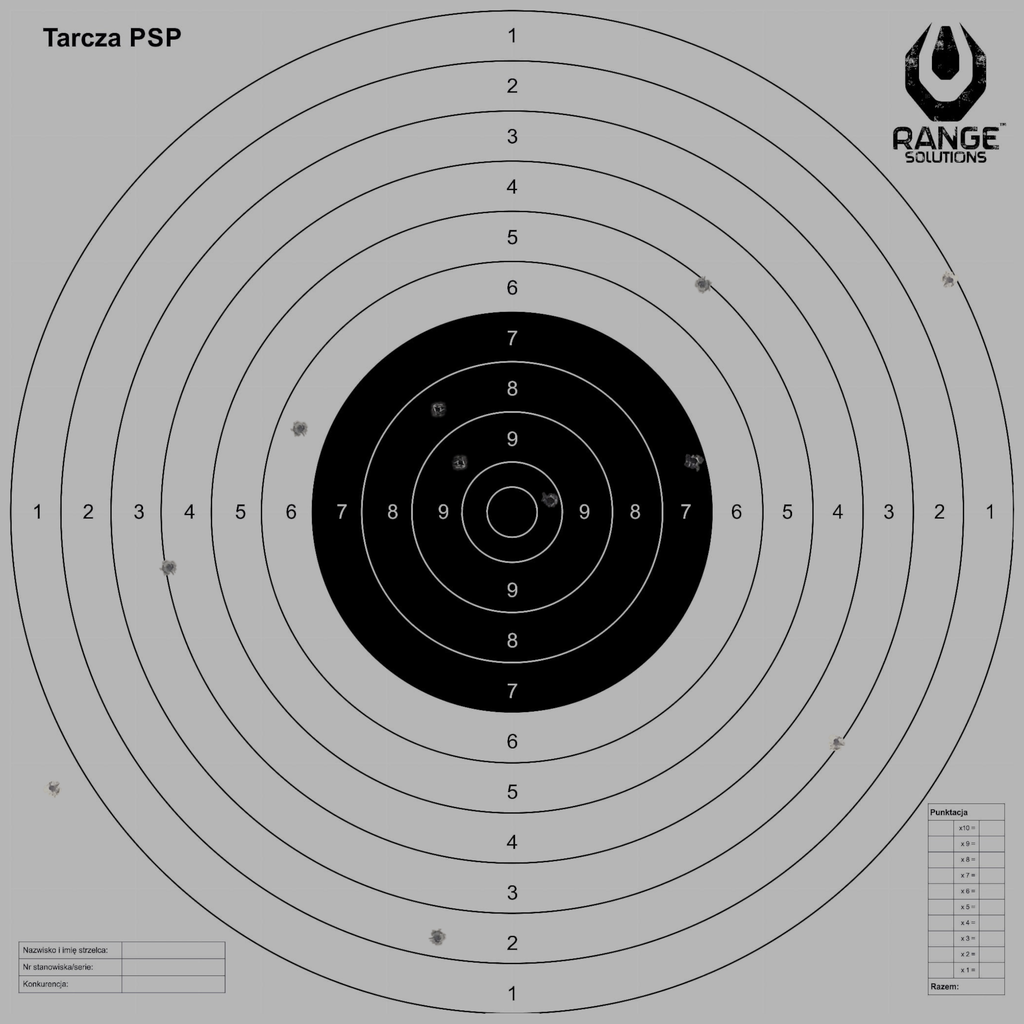0 punktow: (43, 779, 62, 797)
1 punkt: (940, 271, 959, 289)
10 punktow: (541, 491, 560, 510)
2 punkty: (428, 929, 447, 947)
3 punkty: (827, 733, 846, 752)
4 punkty: (160, 558, 179, 577)
5 punktow: (693, 275, 712, 294)
6 punktow: (291, 419, 310, 438)
7 punktow: (684, 452, 703, 470)
8 punktow: (428, 400, 447, 418)
9 punktow: (452, 454, 470, 472)
